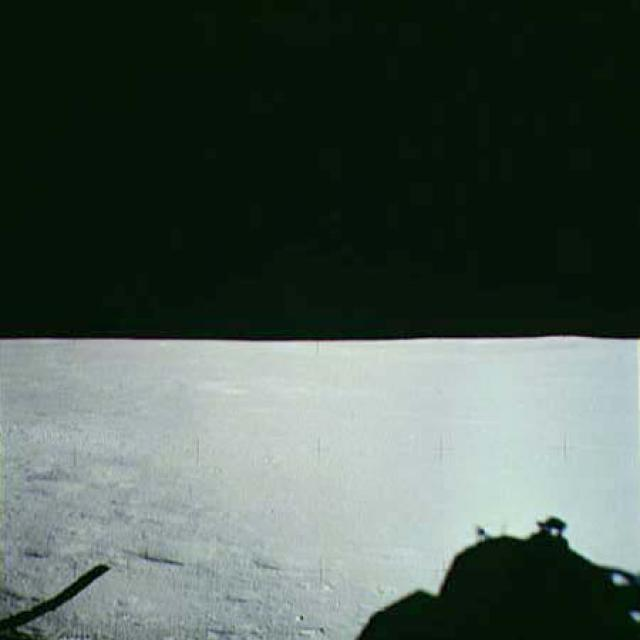crater: (222, 535, 338, 579), (129, 534, 217, 576)
